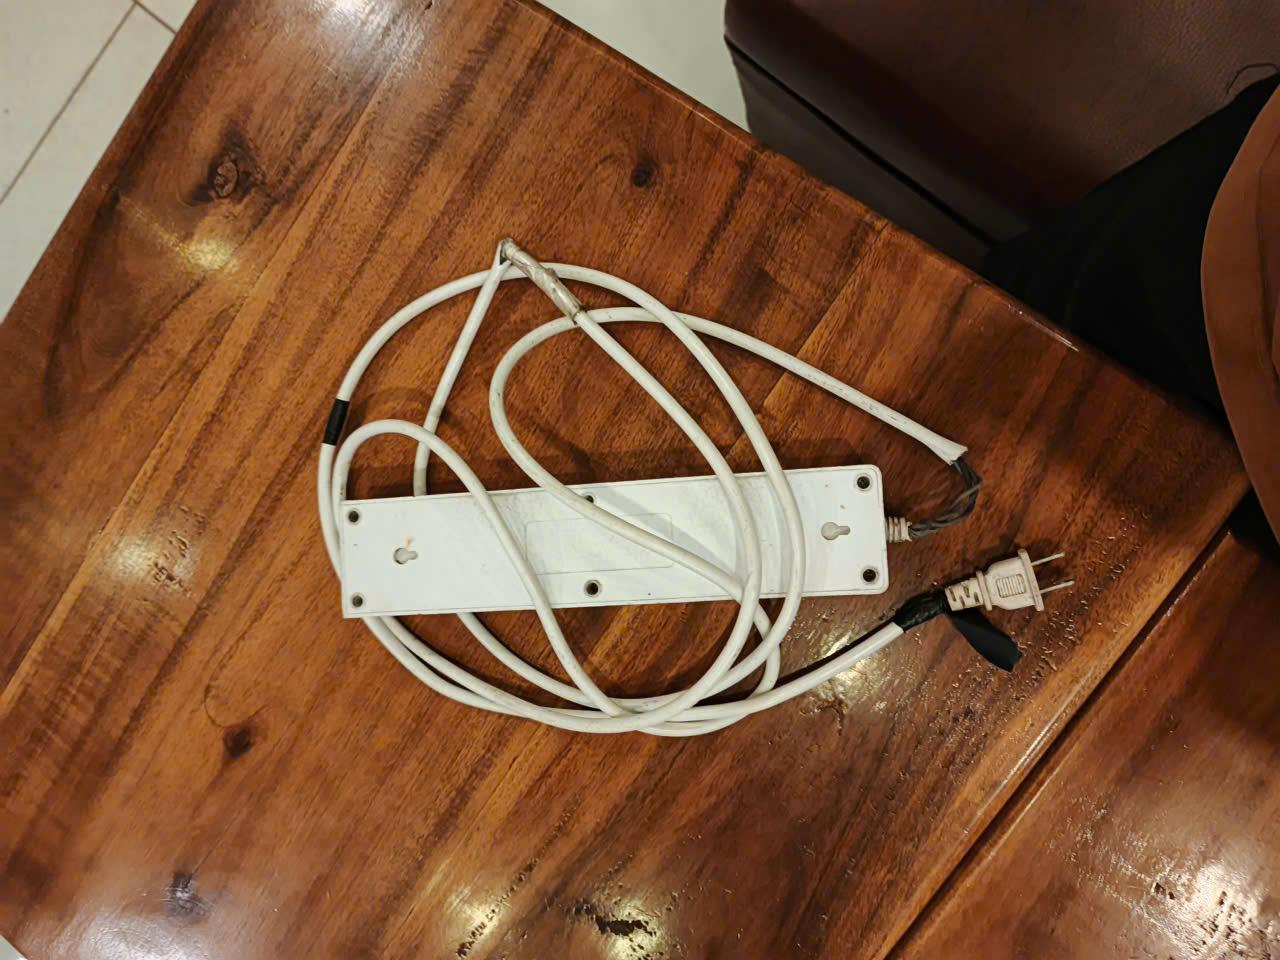Con lai: (314, 234, 1062, 733)
